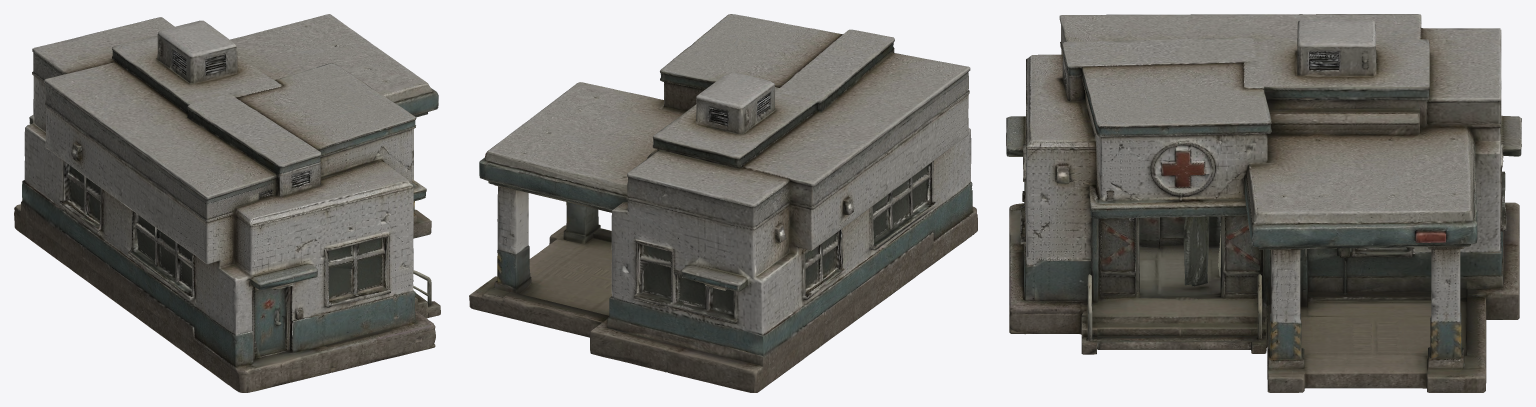
Rendered from tripo_convert_583804f1-3eff-4ca5-a6f2-e5f21e4b1341.fbx.
3 renders of one model, left to right at view 1: azimuth 30°, elevation 25°; view 2: azimuth 150°, elevation 25°; view 3: azimuth 270°, elevation 25°, orthographic. The views are drawn at different scales.
Parts seen in each view (by area): view 1: tripo_node_583804f1; view 2: tripo_node_583804f1; view 3: tripo_node_583804f1.
Part boxes in pixels (x1,y1,x2,y2): tripo_node_583804f1: [14, 14, 440, 392]; tripo_node_583804f1: [469, 14, 977, 392]; tripo_node_583804f1: [1006, 14, 1521, 392].
Size of the model in its own units: 0.8007 by 0.5316 by 0.9792.
Materials: 1 (1 with a texture image).
